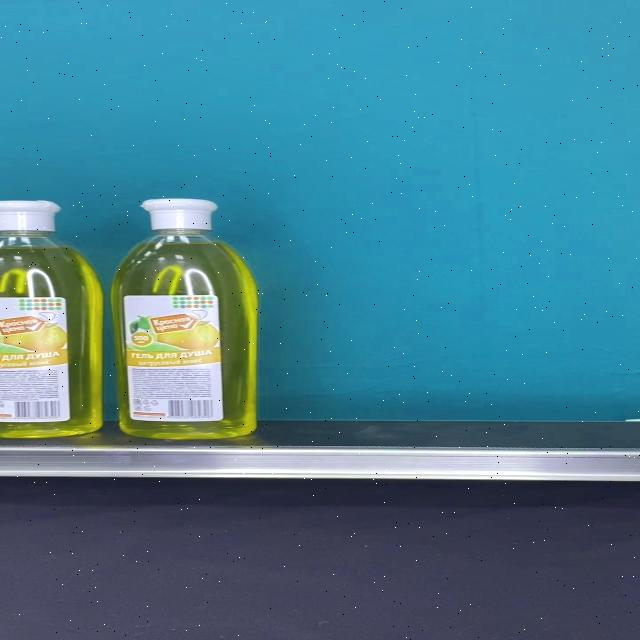Bottle: (112, 198, 259, 438)
Cap: (141, 199, 219, 231)
